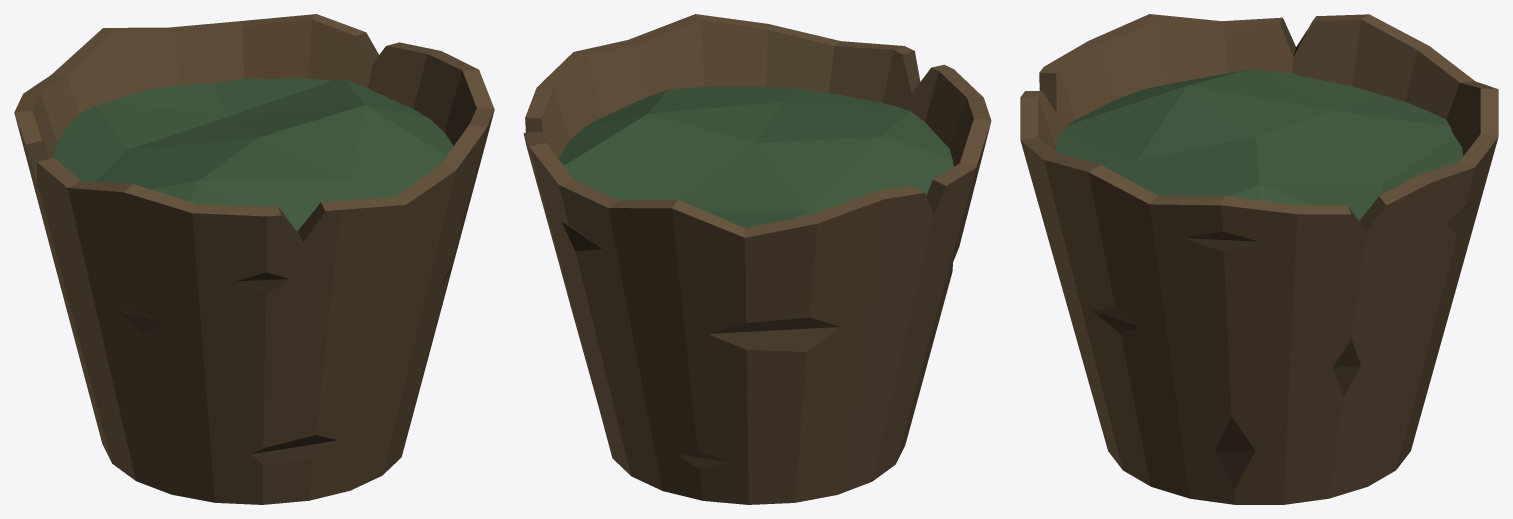
The model's file is Bucket_3_Brown.fbx.
3 views of the same model, side by side, from view 1: azimuth 30°, elevation 25°; view 2: azimuth 150°, elevation 25°; view 3: azimuth 270°, elevation 25° (orthographic). The views are drawn at different scales.
Parts seen in each view (by area): view 1: Bucket_3_Brown_Part_1, Bucket_3_Brown_Part_3, Bucket_3_Brown_Part_2; view 2: Bucket_3_Brown_Part_1, Bucket_3_Brown_Part_3, Bucket_3_Brown_Part_2; view 3: Bucket_3_Brown_Part_1, Bucket_3_Brown_Part_3, Bucket_3_Brown_Part_2.
Part boxes in pixels (x1,y1,x2,y2): Bucket_3_Brown_Part_1: [14, 14, 494, 504]; Bucket_3_Brown_Part_3: [53, 78, 453, 231]; Bucket_3_Brown_Part_2: [26, 32, 450, 464]; Bucket_3_Brown_Part_1: [523, 14, 991, 504]; Bucket_3_Brown_Part_3: [558, 87, 953, 227]; Bucket_3_Brown_Part_2: [525, 51, 952, 468]; Bucket_3_Brown_Part_1: [1020, 14, 1498, 504]; Bucket_3_Brown_Part_3: [1055, 69, 1463, 220]; Bucket_3_Brown_Part_2: [1039, 18, 1476, 489].
Size of the model in its own units: 79.02 by 62.58 by 79.02.
